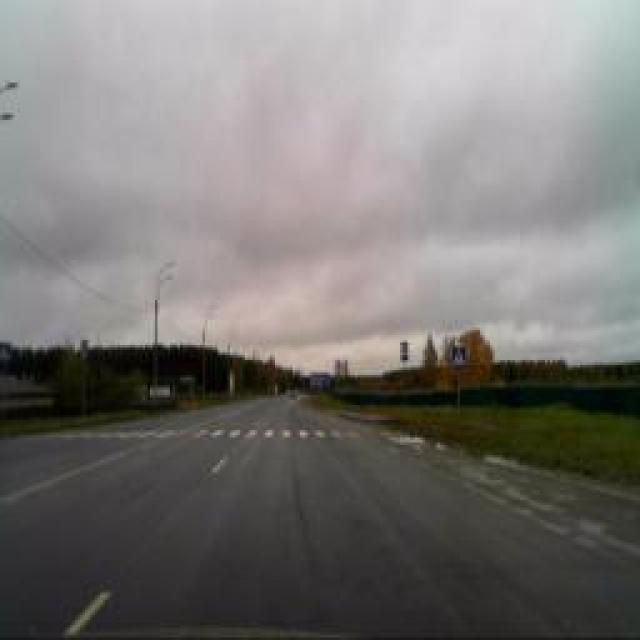sign: (452, 344, 466, 371), (0, 341, 12, 363)
